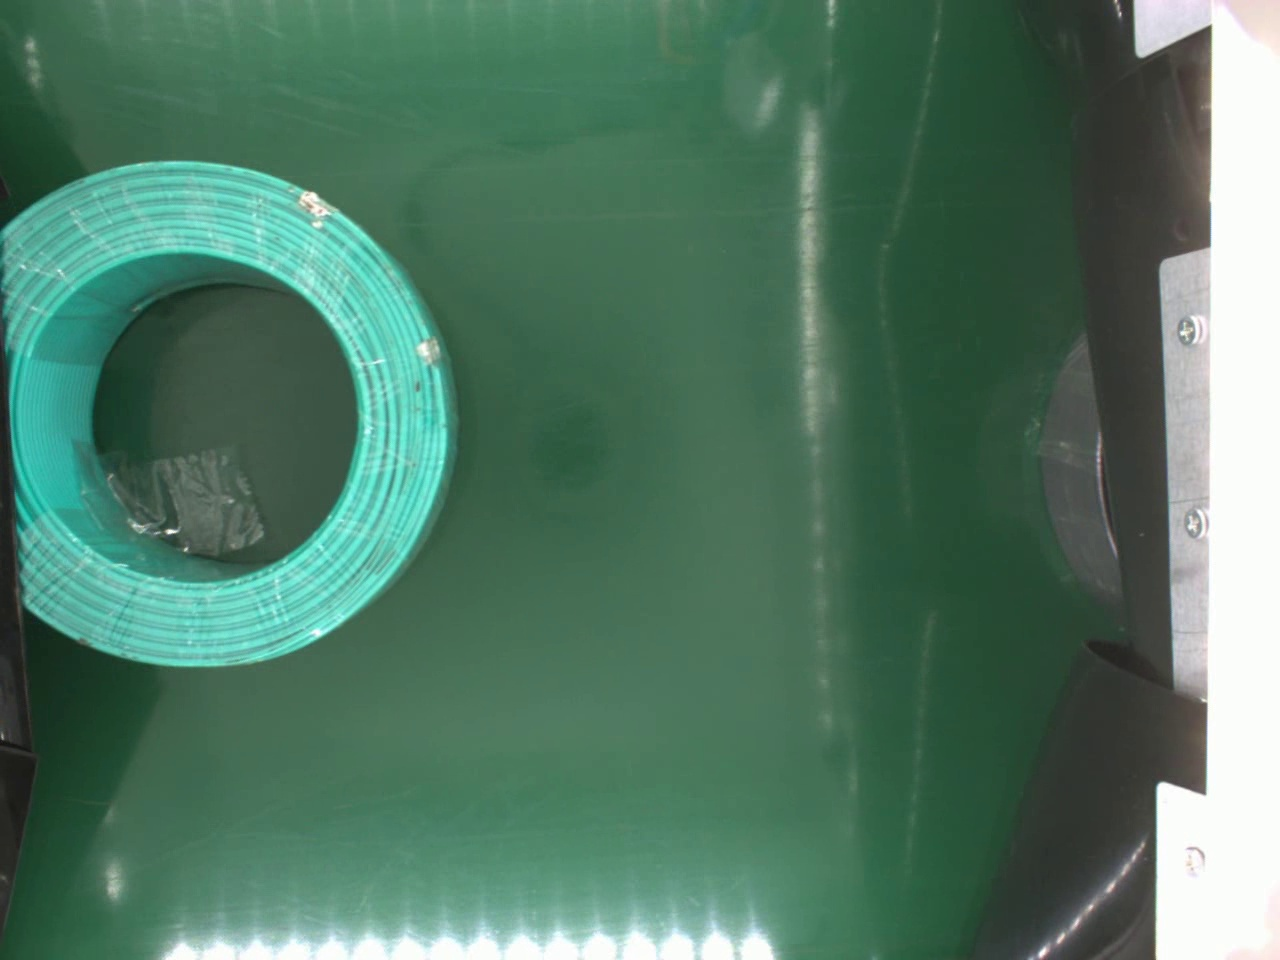green: (0, 158, 467, 668)
